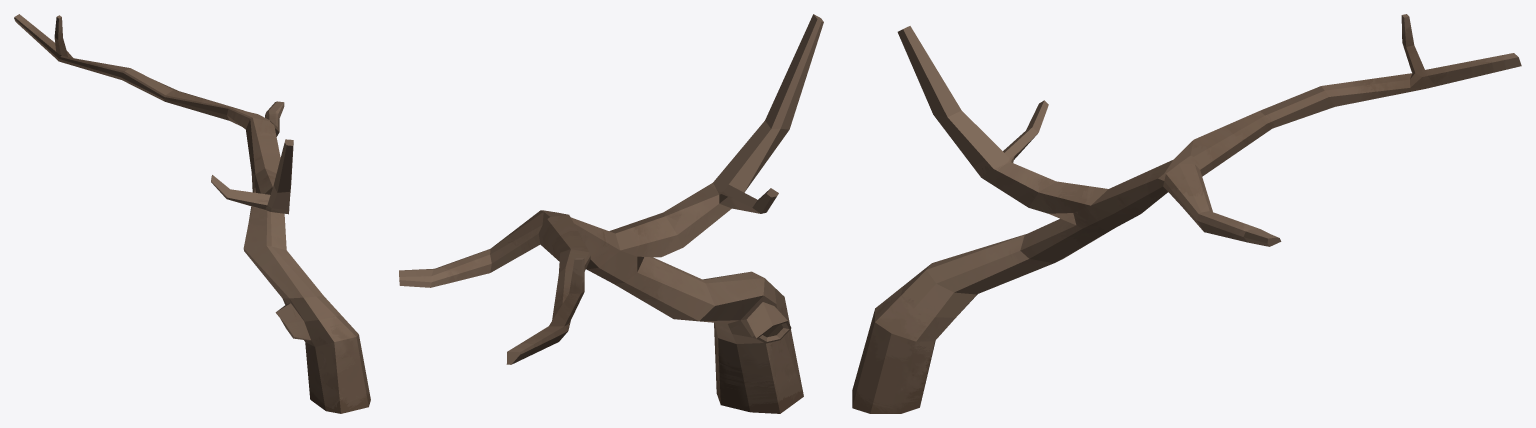
File: TreeObstacle_Right_NoSnake 1.fbx
3 renders of one model, left to right at view 1: azimuth 30°, elevation 25°; view 2: azimuth 150°, elevation 25°; view 3: azimuth 270°, elevation 25°, orthographic. The views are drawn at different scales.
Visible parts, largest first — view 1: TreeObstacle_Right; view 2: TreeObstacle_Right; view 3: TreeObstacle_Right.
Part boxes in pixels (x1,y1,x2,y2): TreeObstacle_Right: (14,14,370,413); TreeObstacle_Right: (399,14,823,413); TreeObstacle_Right: (852,14,1521,413).
Size of the model in its own units: 535 by 777 by 1371.
